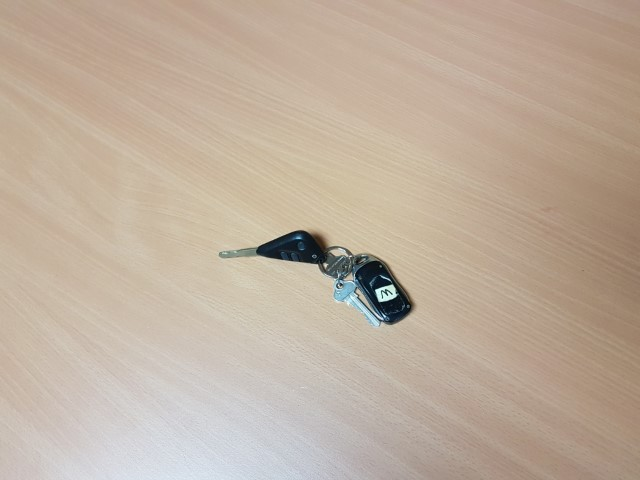key: (218, 229, 327, 265)
